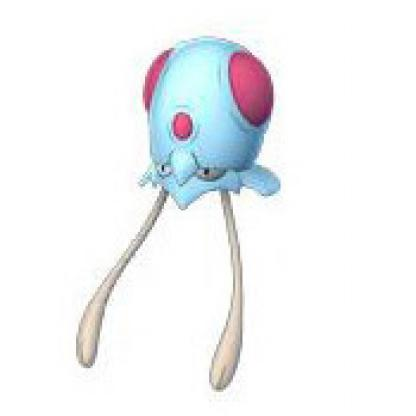Tentacool: (45, 36, 301, 403)
